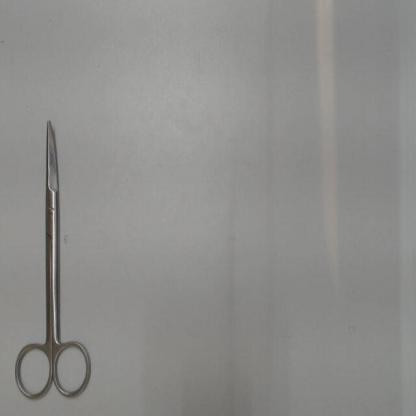Curved Mayo Scissors: (9, 116, 96, 405)
